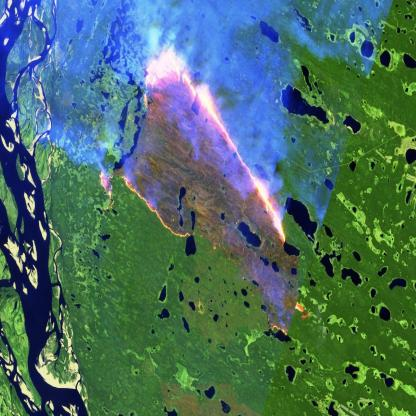fire: (98, 42, 288, 247), (269, 295, 307, 344)
